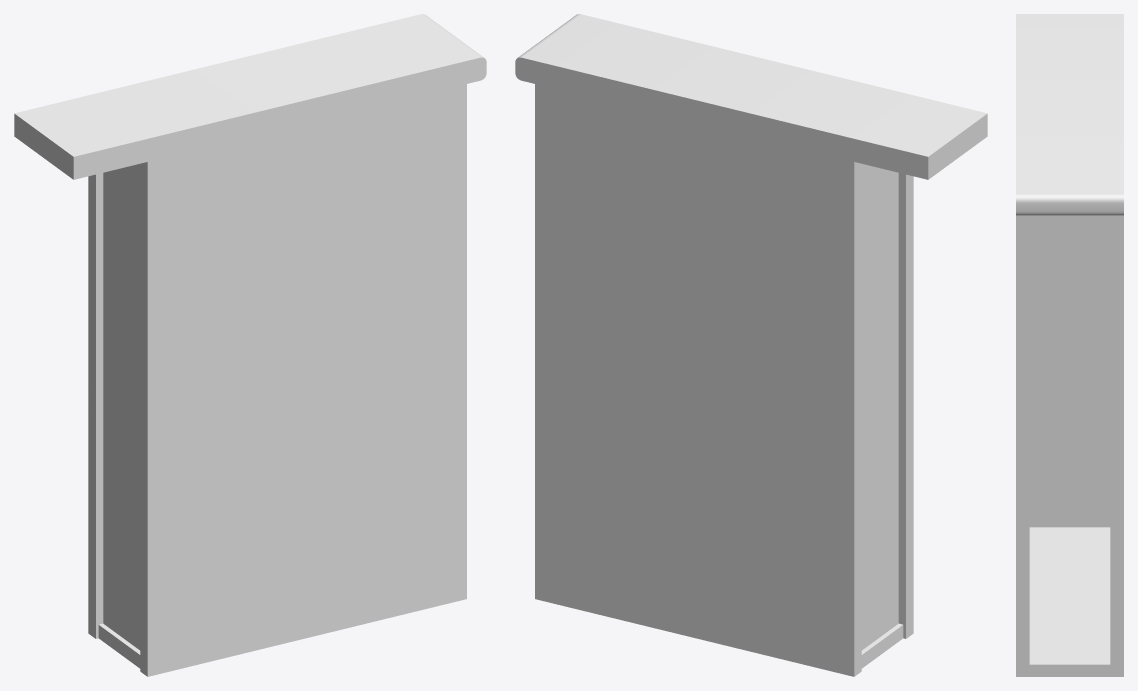
The model's file is corpus_bottom_15.glb.
3 renders of one model, left to right at view 1: azimuth 30°, elevation 25°; view 2: azimuth 150°, elevation 25°; view 3: azimuth 270°, elevation 25°, orthographic. The views are drawn at different scales.
Parts seen in each view (by area): view 1: corpus_bottom_15; view 2: corpus_bottom_15; view 3: corpus_bottom_15.
Part boxes in pixels (<box>): corpus_bottom_15: <box>14,14,486,676</box>; corpus_bottom_15: <box>515,14,987,676</box>; corpus_bottom_15: <box>1016,14,1123,676</box>.
Size of the model in its own units: 0.6 by 0.747 by 0.1495.
1 material, 1 textured.
